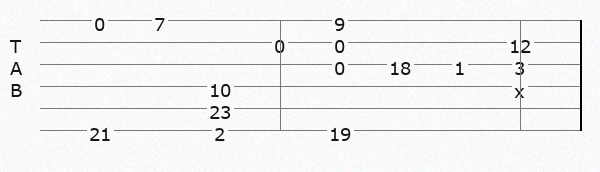0: (94, 12, 109, 29), (274, 34, 289, 51), (334, 34, 349, 51), (334, 56, 349, 73)
1: (454, 56, 469, 73)
10: (209, 78, 235, 95)
12: (509, 34, 535, 51)
18: (389, 56, 415, 73)
19: (329, 122, 355, 139)
2: (214, 122, 229, 139)
21: (89, 122, 115, 139)
23: (209, 100, 235, 117)
3: (514, 56, 529, 73)
7: (154, 12, 169, 29)
9: (334, 12, 349, 29)
x: (514, 79, 529, 93)
